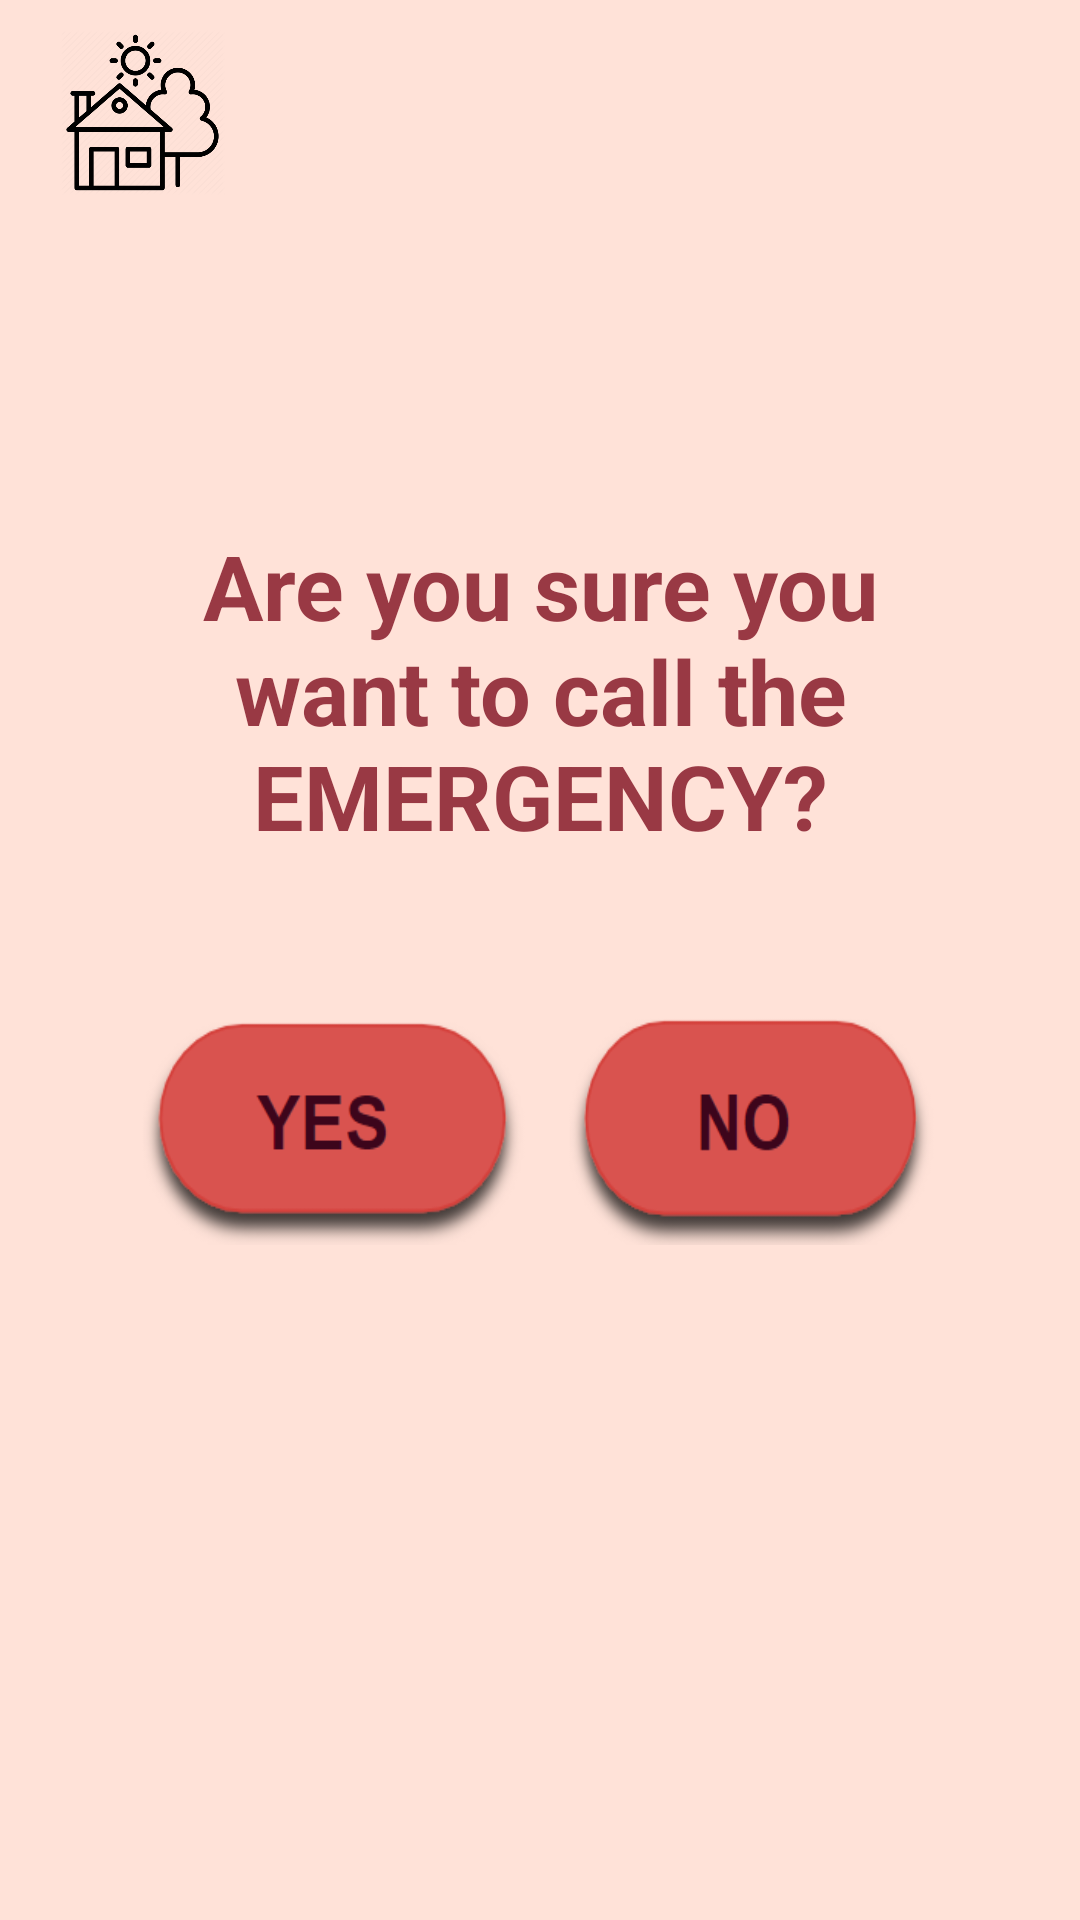

Locate icon controls on the screen. Image size 1080×1920, boxes as (x1, y1, x2, y2).
house: (66, 34, 219, 191)
